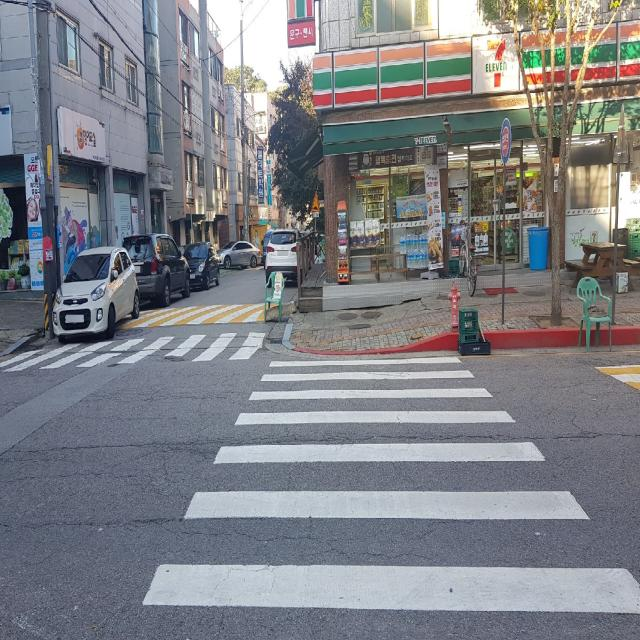횡단보도: (142, 356, 640, 613), (13, 328, 263, 368)
